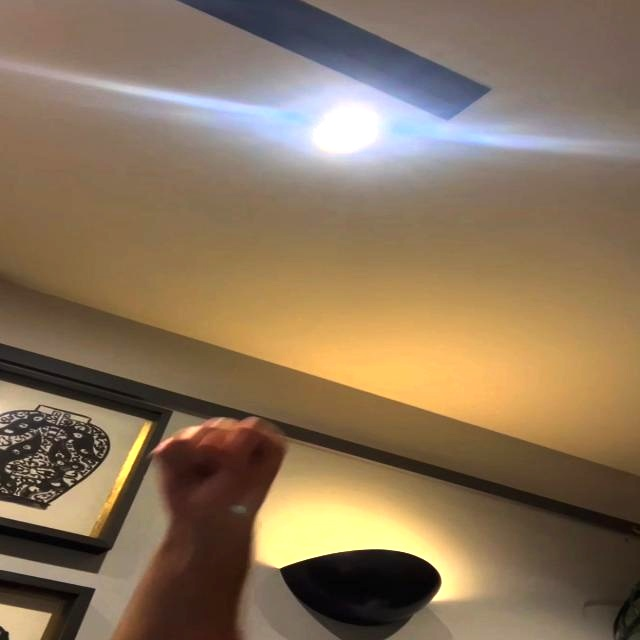Rock: (150, 419, 288, 507)
